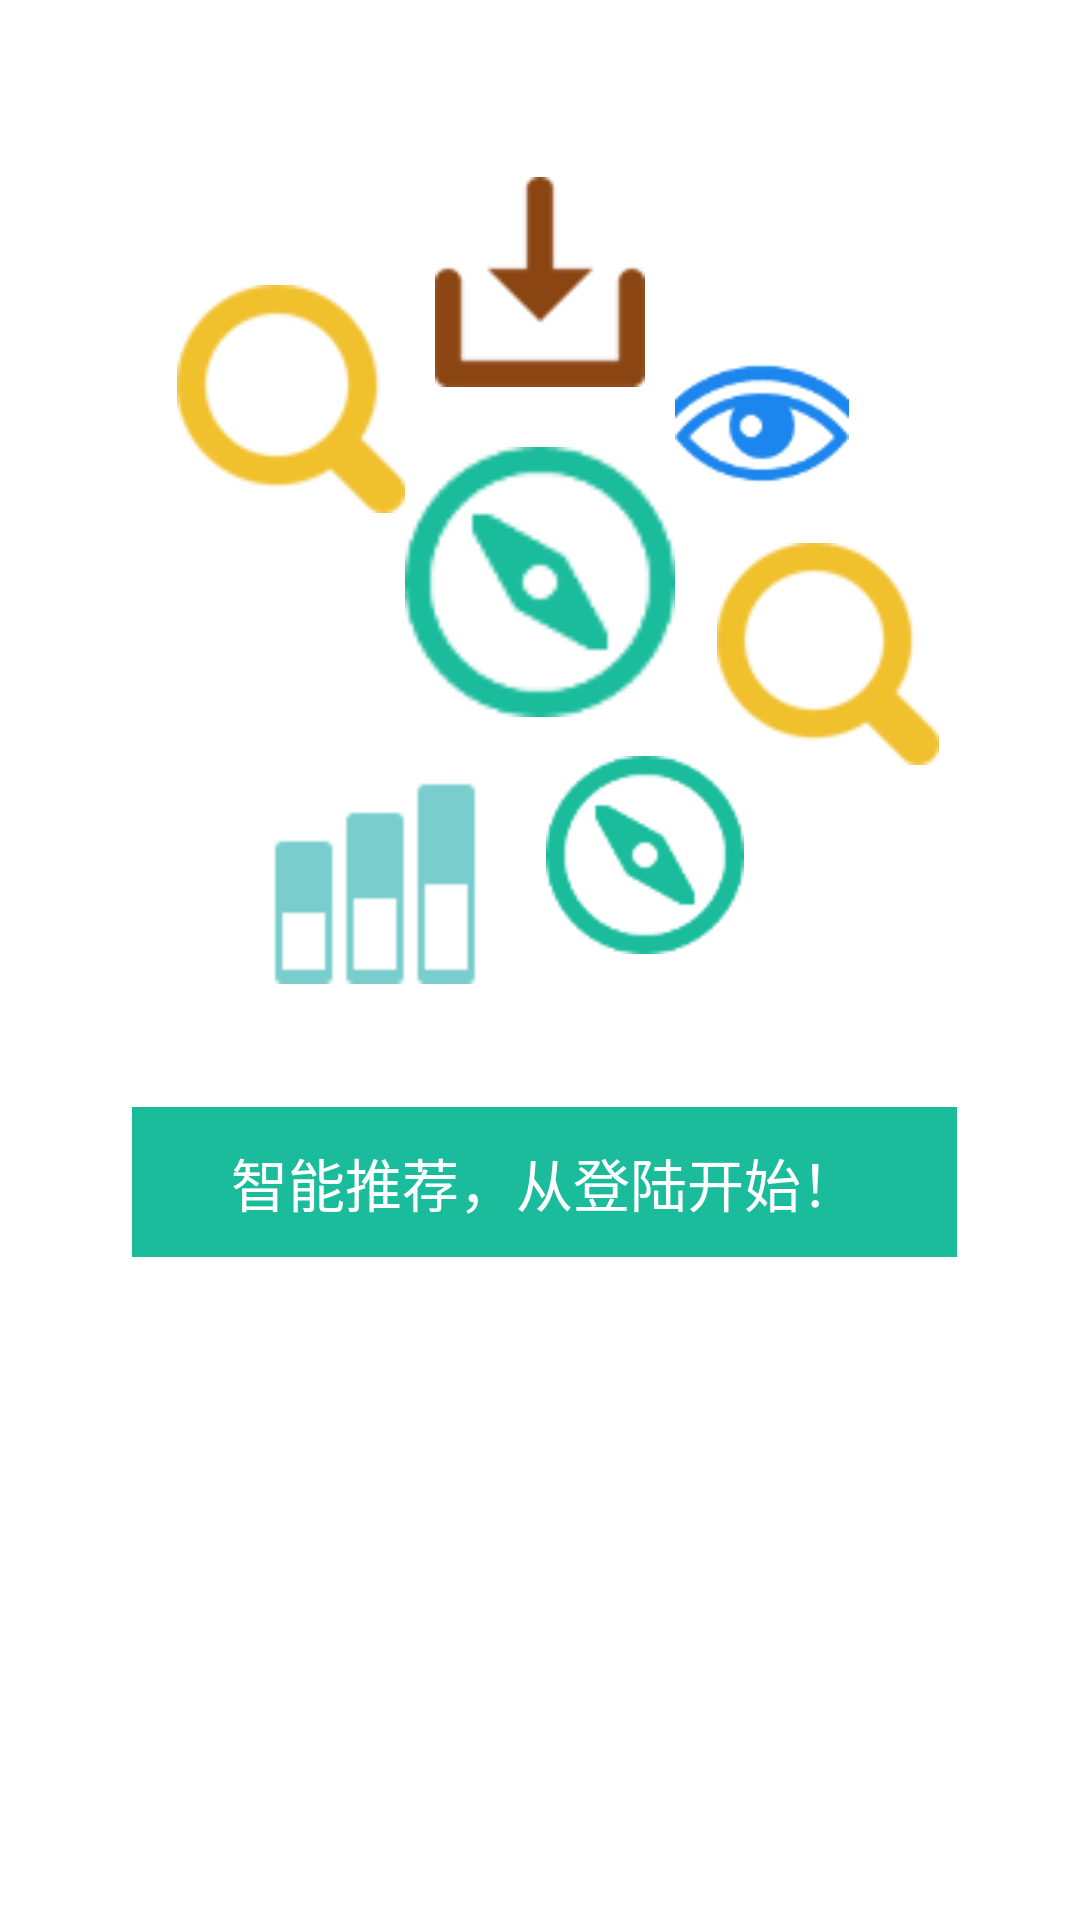

Where to tap for icons on this 1080 x 1920 app screen, as [x,y]:
left offline: [540,282]
left search: [291,399], [828,654]
